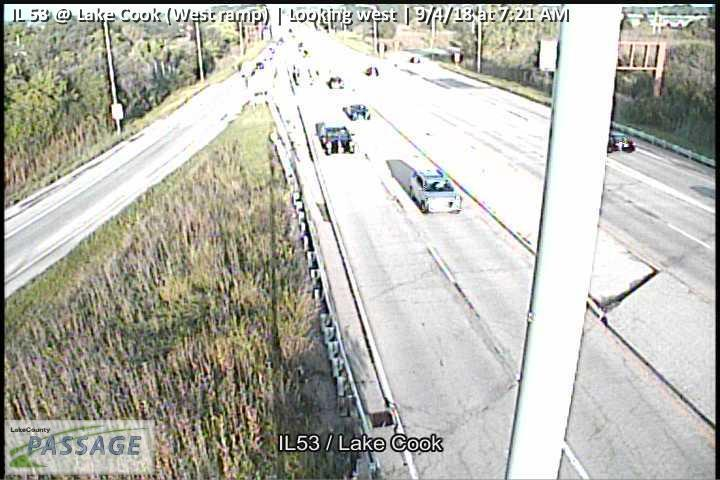Sedan: (318, 122, 356, 156), (606, 132, 635, 154), (351, 105, 370, 120), (329, 76, 344, 89)
Truck: (409, 169, 462, 213)
